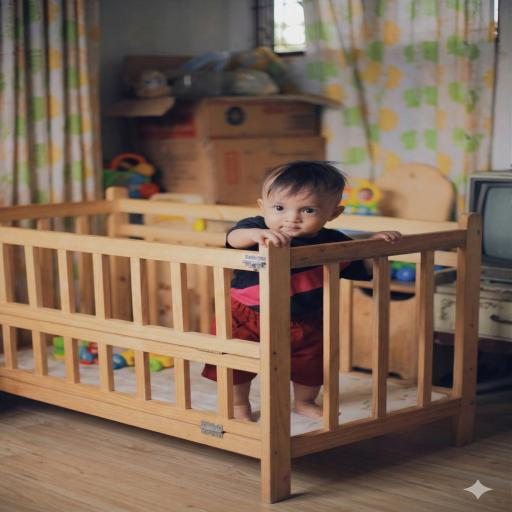baby: (226, 161, 351, 250)
crib: (0, 188, 481, 502)
